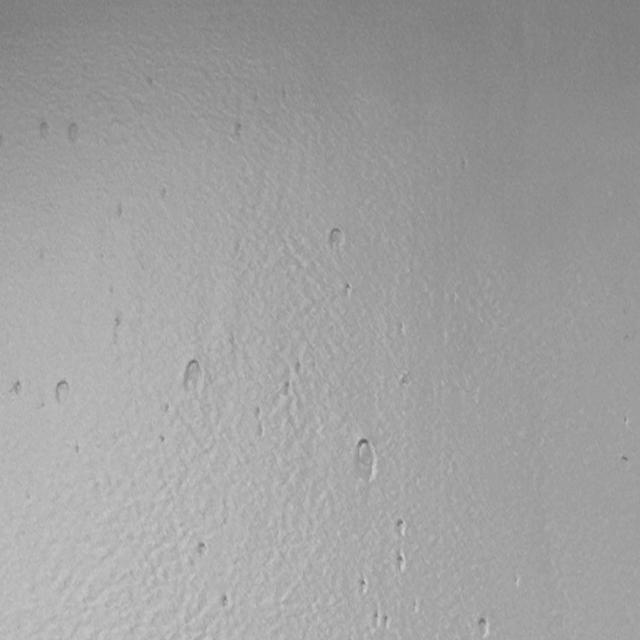pin holes: (351, 435, 384, 488), (180, 358, 206, 395), (52, 378, 72, 409), (326, 226, 346, 252), (65, 120, 84, 146), (474, 616, 492, 640), (36, 118, 54, 142), (10, 377, 28, 397), (280, 380, 296, 402), (231, 120, 247, 141), (371, 612, 386, 632), (395, 516, 409, 536), (395, 553, 409, 572), (159, 185, 172, 205), (196, 543, 209, 561), (293, 357, 304, 378), (220, 592, 234, 608), (618, 451, 632, 467), (358, 578, 370, 596), (116, 202, 128, 220), (400, 370, 412, 388), (253, 406, 266, 422), (342, 284, 355, 300), (161, 401, 174, 417), (114, 312, 125, 330), (0, 131, 8, 150), (158, 434, 168, 448)
